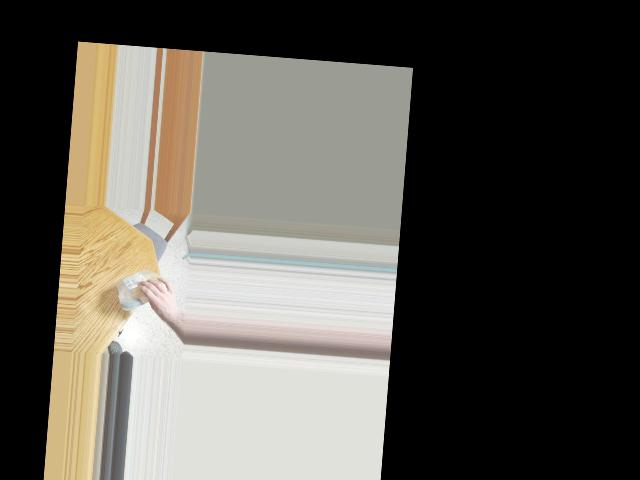cheese: (119, 269, 161, 301)
